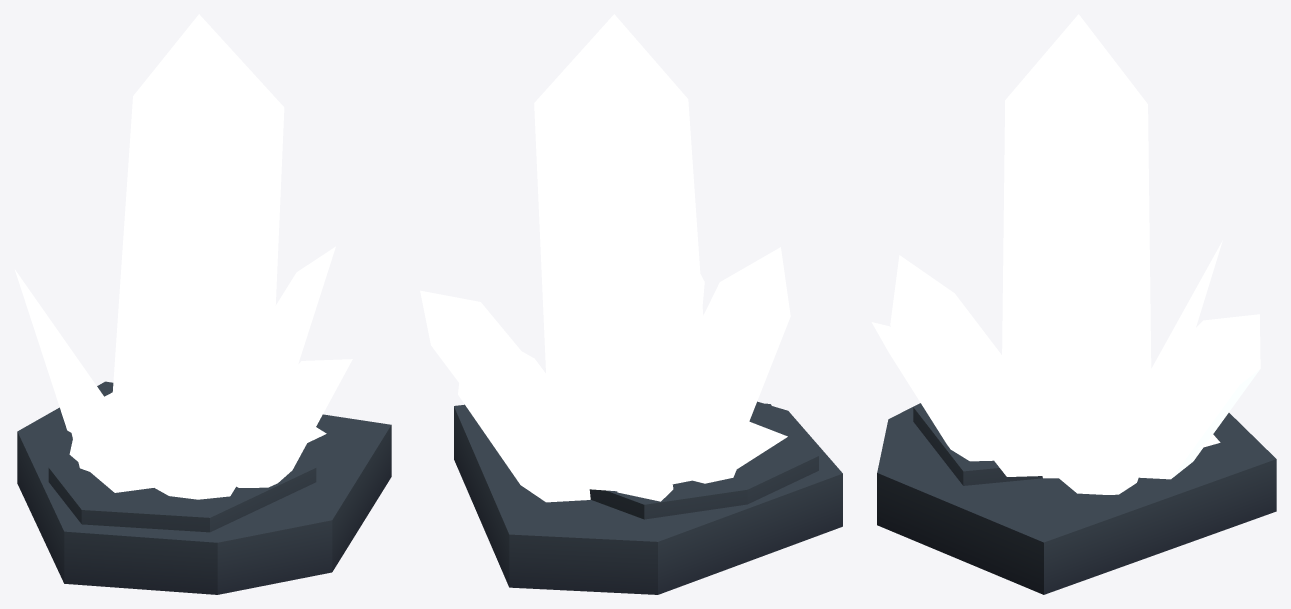
Rendered from wf_crystals-lod1.glb.
3 views of the same model, side by side, from view 1: azimuth 30°, elevation 25°; view 2: azimuth 150°, elevation 25°; view 3: azimuth 270°, elevation 25° (orthographic).
Visible parts, largest first — view 1: wf_crystals; view 2: wf_crystals; view 3: wf_crystals.
Part boxes in pixels (bbox=[...]): wf_crystals: bbox=[15, 14, 391, 594]; wf_crystals: bbox=[420, 14, 842, 594]; wf_crystals: bbox=[871, 14, 1276, 594].
Bounding box in the file's own units: 1.28 × 1.7 × 1.26.
